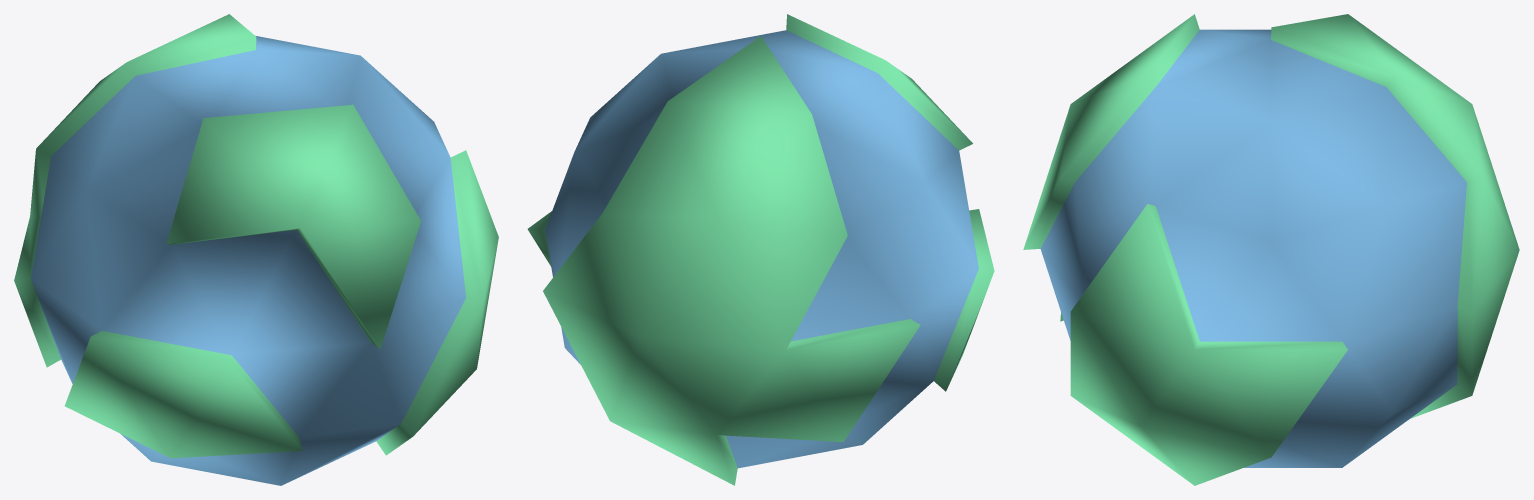
Rendered from globe.gltf.
The picture shows the model from 3 angles, left to right: view 1: azimuth 30°, elevation 25°; view 2: azimuth 150°, elevation 25°; view 3: azimuth 270°, elevation 25°; orthographic projection. The views are drawn at different scales.
Visible parts, largest first — view 1: Icosphere; view 2: Icosphere; view 3: Icosphere.
Boxes of the visible parts, bbox=[...] form: Icosphere: bbox=[14, 14, 498, 485]; Icosphere: bbox=[527, 14, 994, 485]; Icosphere: bbox=[1023, 14, 1519, 485].
Bounding box in the file's own units: 2.91 × 2.93 × 3.06.
